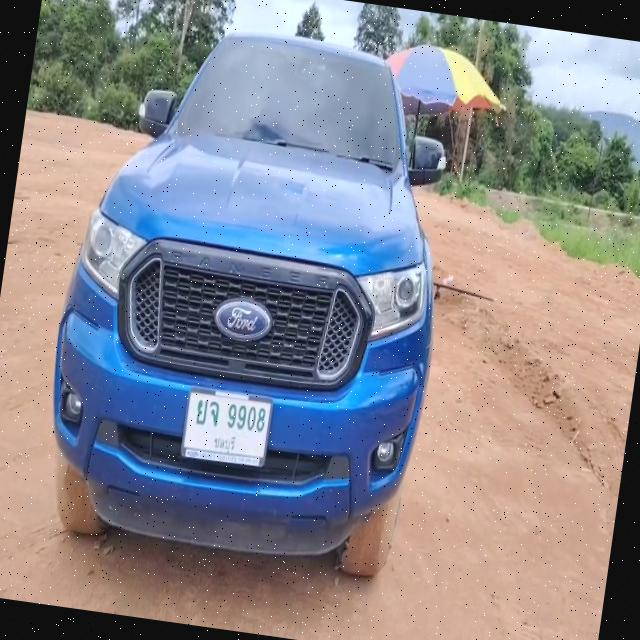Digit: (224, 401, 268, 436)
Licenseplate: (181, 388, 273, 466)
Provincename: (212, 432, 236, 455)
Thaichar: (194, 397, 222, 429)
